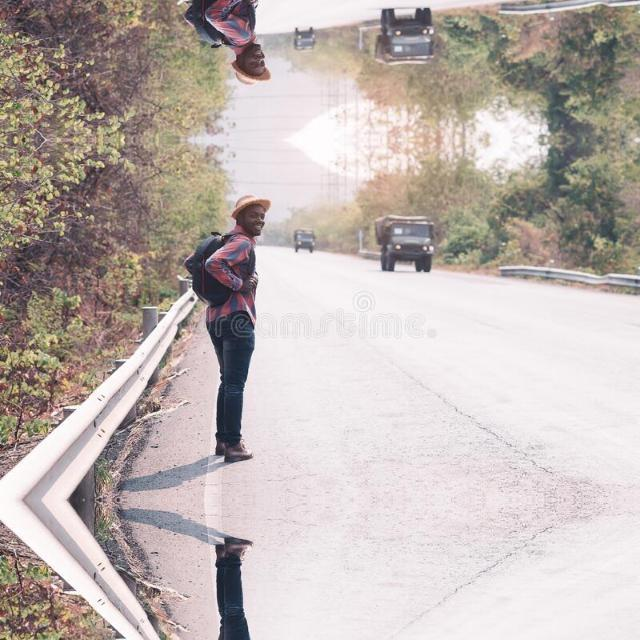person: (198, 185, 292, 459), (198, 541, 291, 640), (198, 0, 291, 95)
